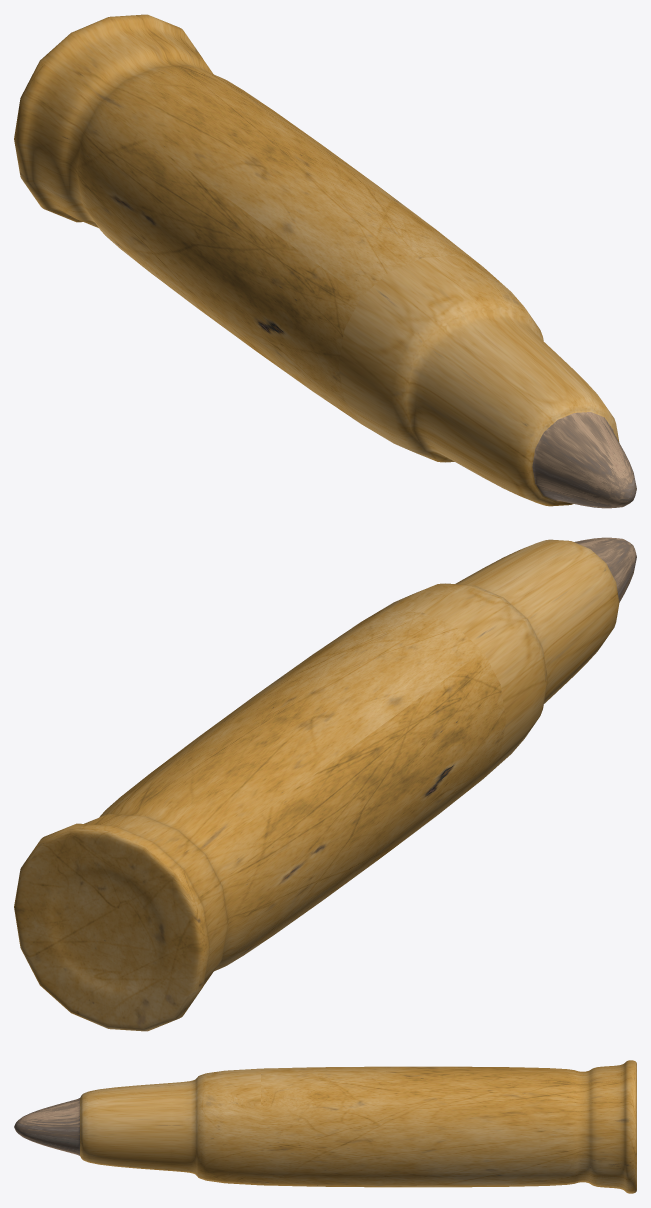
File: bullet.fbx
The picture shows the model from 3 angles, top to bottom: view 1: azimuth 30°, elevation 25°; view 2: azimuth 150°, elevation 25°; view 3: azimuth 270°, elevation 25°; orthographic projection. The views are drawn at different scales.
Parts seen in each view (by area): view 1: bullet; view 2: bullet; view 3: bullet.
Boxes of the visible parts, bbox=[...] form: bullet: bbox=[14, 14, 636, 508]; bullet: bbox=[14, 537, 636, 1031]; bullet: bbox=[14, 1060, 636, 1193].
Bounding box in the file's own units: 1.19 × 1.19 × 5.63.
Materials: 2 (2 with a texture image).
